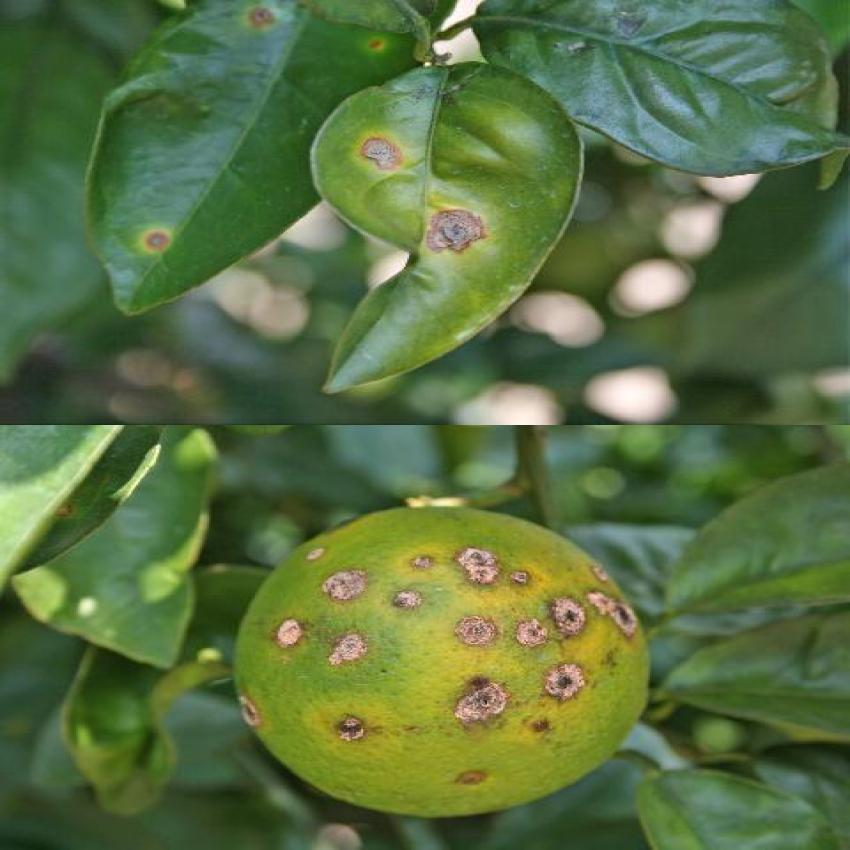Mal estado: (222, 492, 663, 822)
